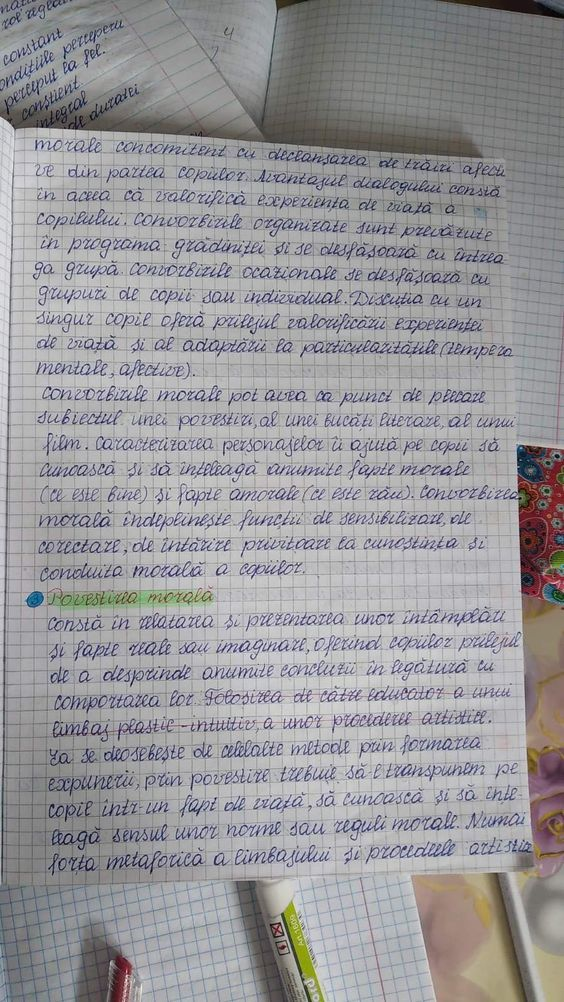page: (13, 133, 524, 871)
